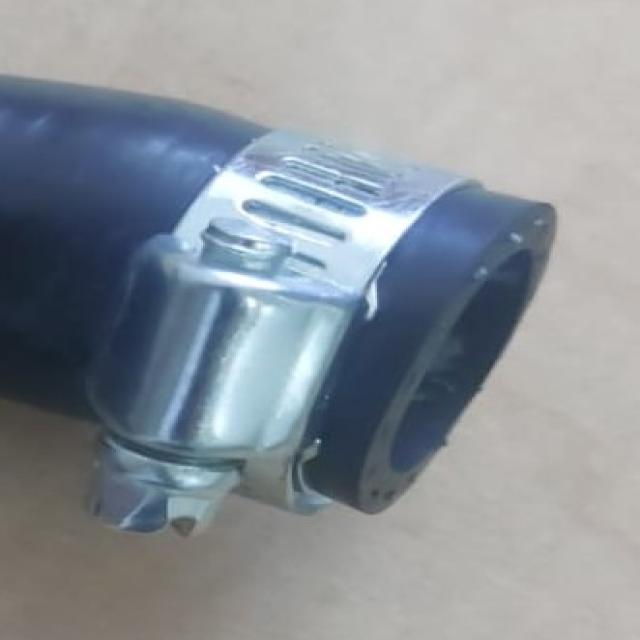clamp: (1, 96, 499, 604)
pipe: (296, 182, 559, 518)
